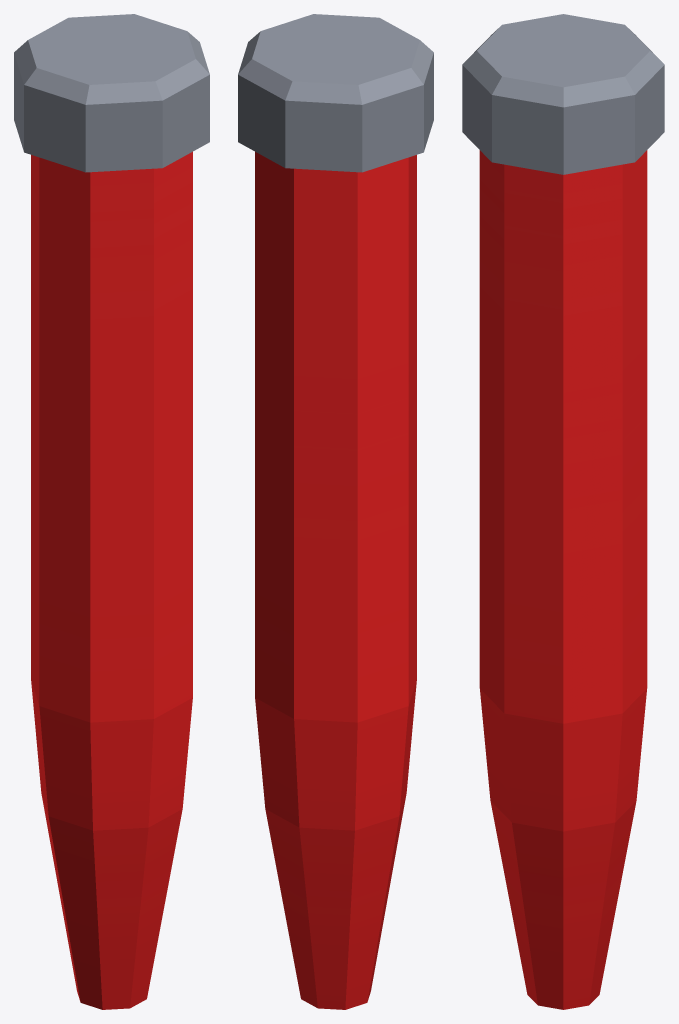
Rendered from SM_Props_Laboratory_12.fbx.
The picture shows the model from 3 angles, left to right: view 1: azimuth 30°, elevation 25°; view 2: azimuth 150°, elevation 25°; view 3: azimuth 270°, elevation 25°; orthographic projection.
Parts seen in each view (by area): view 1: SM_Props_Laboratory_12; view 2: SM_Props_Laboratory_12; view 3: SM_Props_Laboratory_12.
Part boxes in pixels (x1,y1,x2,y2): SM_Props_Laboratory_12: [14, 14, 209, 1009]; SM_Props_Laboratory_12: [238, 14, 433, 1009]; SM_Props_Laboratory_12: [462, 14, 664, 1009].
Bounding box in the file's own units: 0.0339 × 0.1745 × 0.0339.
